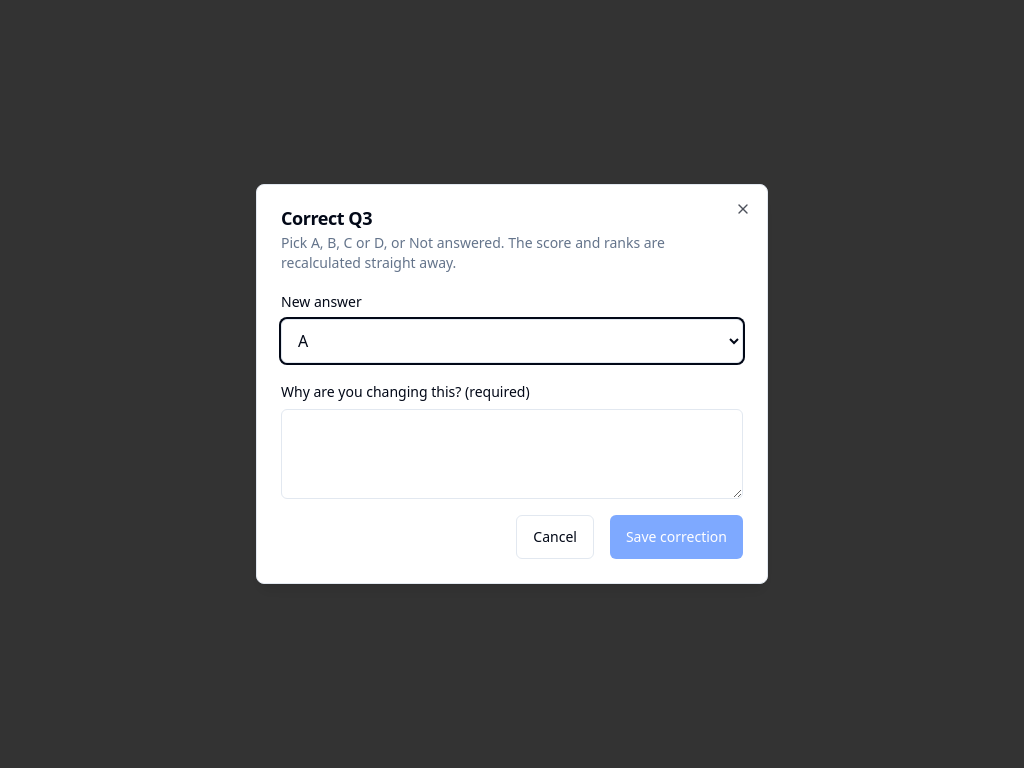
Test: Students pages › blocks saving a correction until a reason is typed
Later steps or results of the test are not shown.
Expected: the button "Save correction" is disabled, [610,515,743,559]
Type "Operator mis-keyed it" into the text box labelled "Why are you changing this? (required)".
click(512, 454); type("Operator mis-keyed it")  # box [281,409,743,499]
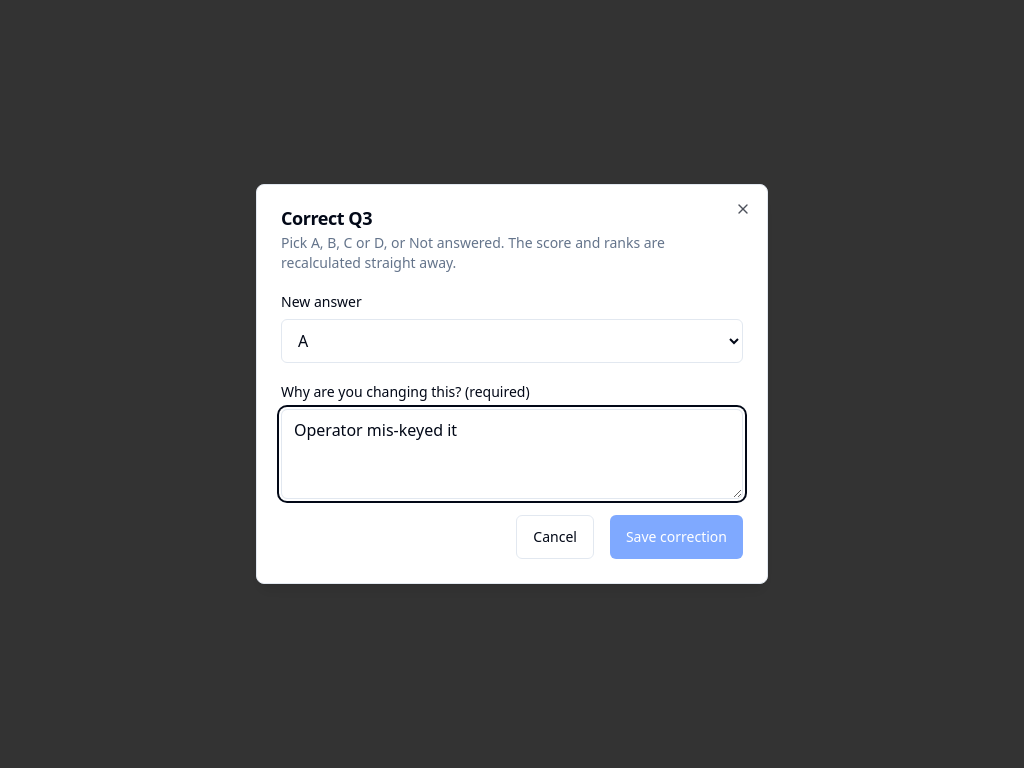
Expected: the button "Save correction" is disabled, [610,515,743,559]
Select "B" in the dropdown labelled "New answer" at (512, 341), box [281,319,743,363]
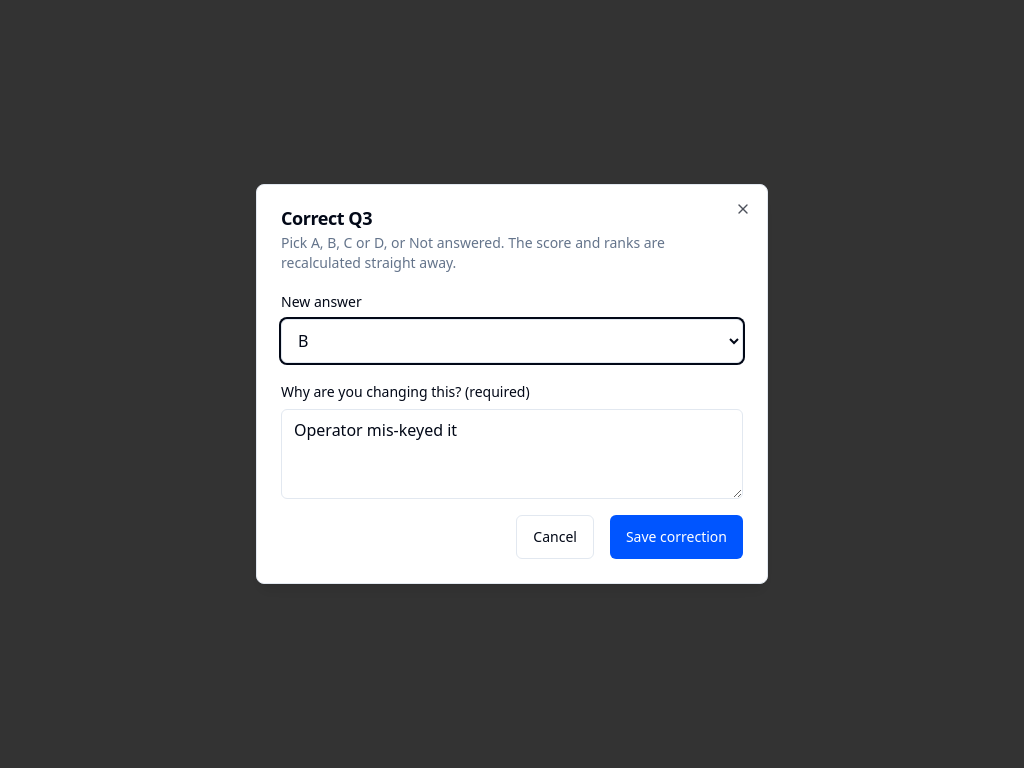
Expected: the button "Save correction" is enabled, [610,515,743,559]
